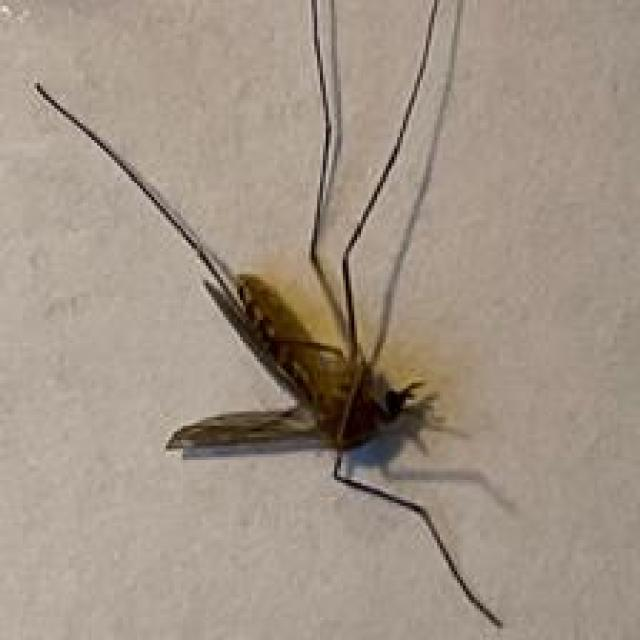Culex: (32, 0, 517, 629)
